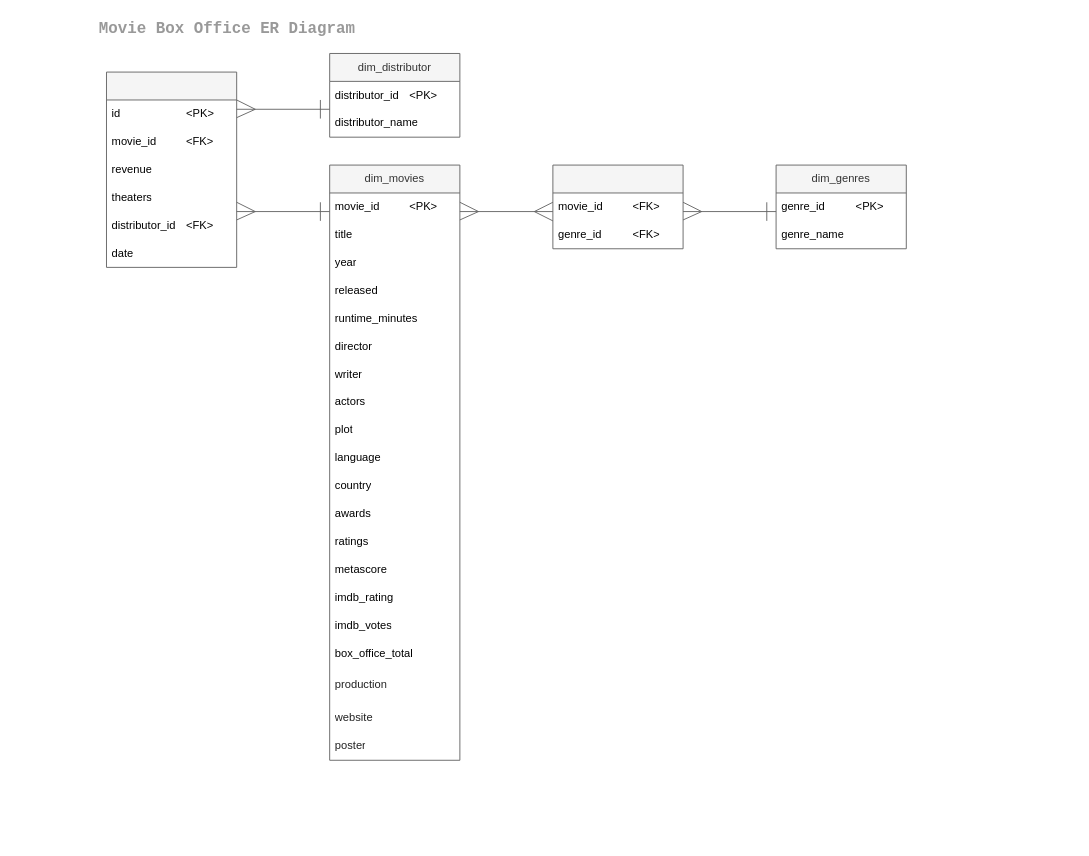
Image size: 1089x856. Some labels were removed from this diagram. Each missing label, with the box of its shape:
bridge_movie_genre: (552, 164, 683, 249)
fact_revenues: (106, 71, 237, 267)
